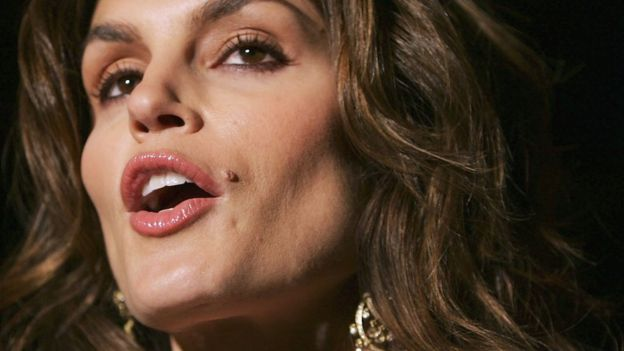mole: (215, 162, 240, 188)
